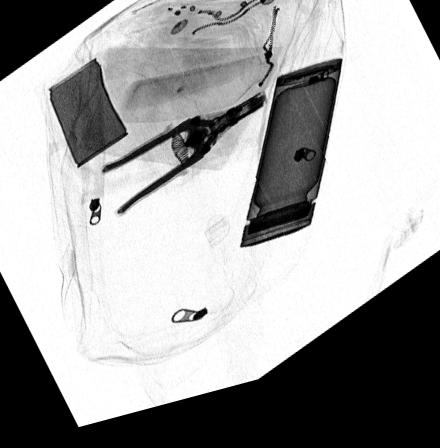Pliers: (101, 105, 265, 222)
